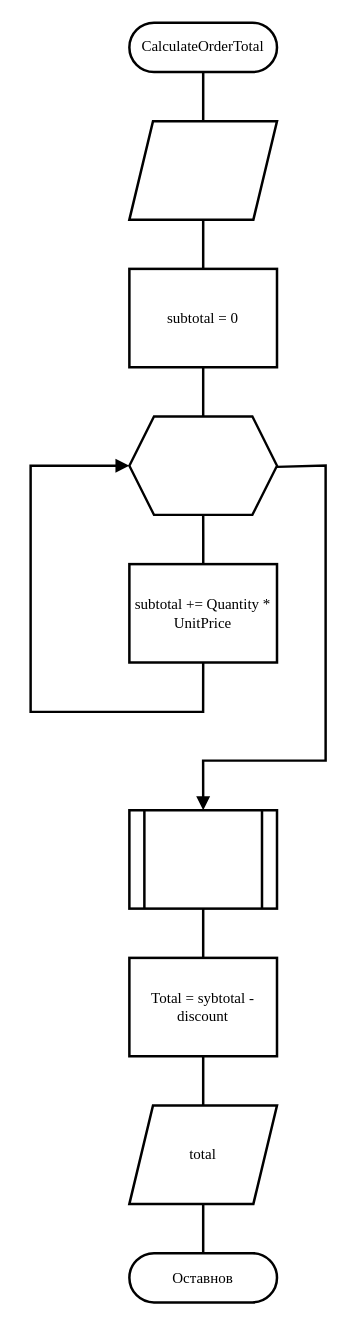
This 359x1325 diagram has some shape labels left out. Each missing label, with the box of its shape:
discount = Calculate Discount(...): (128, 808, 278, 909)
i=0; i<count; i++: (128, 415, 278, 516)
order: (128, 119, 278, 220)
